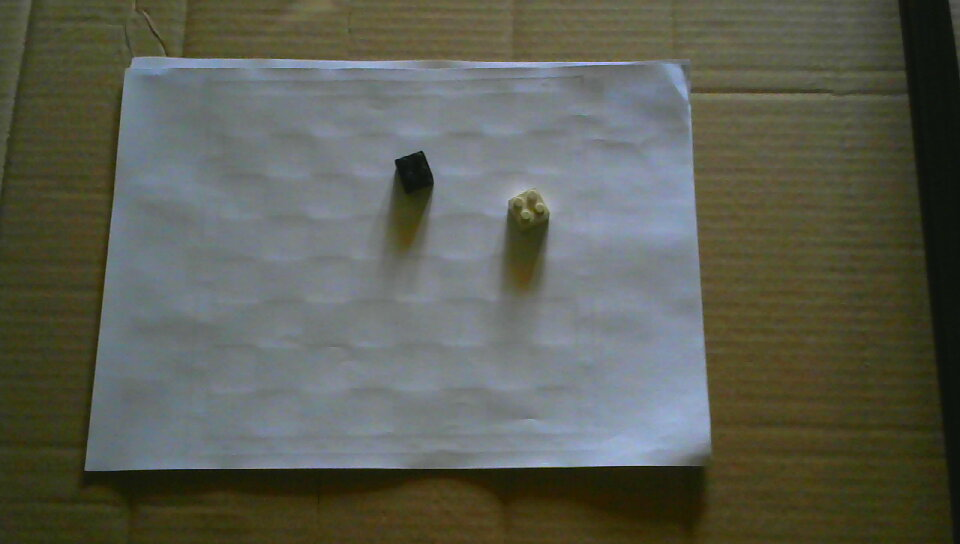bp: (393, 149, 436, 196)
wp: (505, 186, 552, 235)
